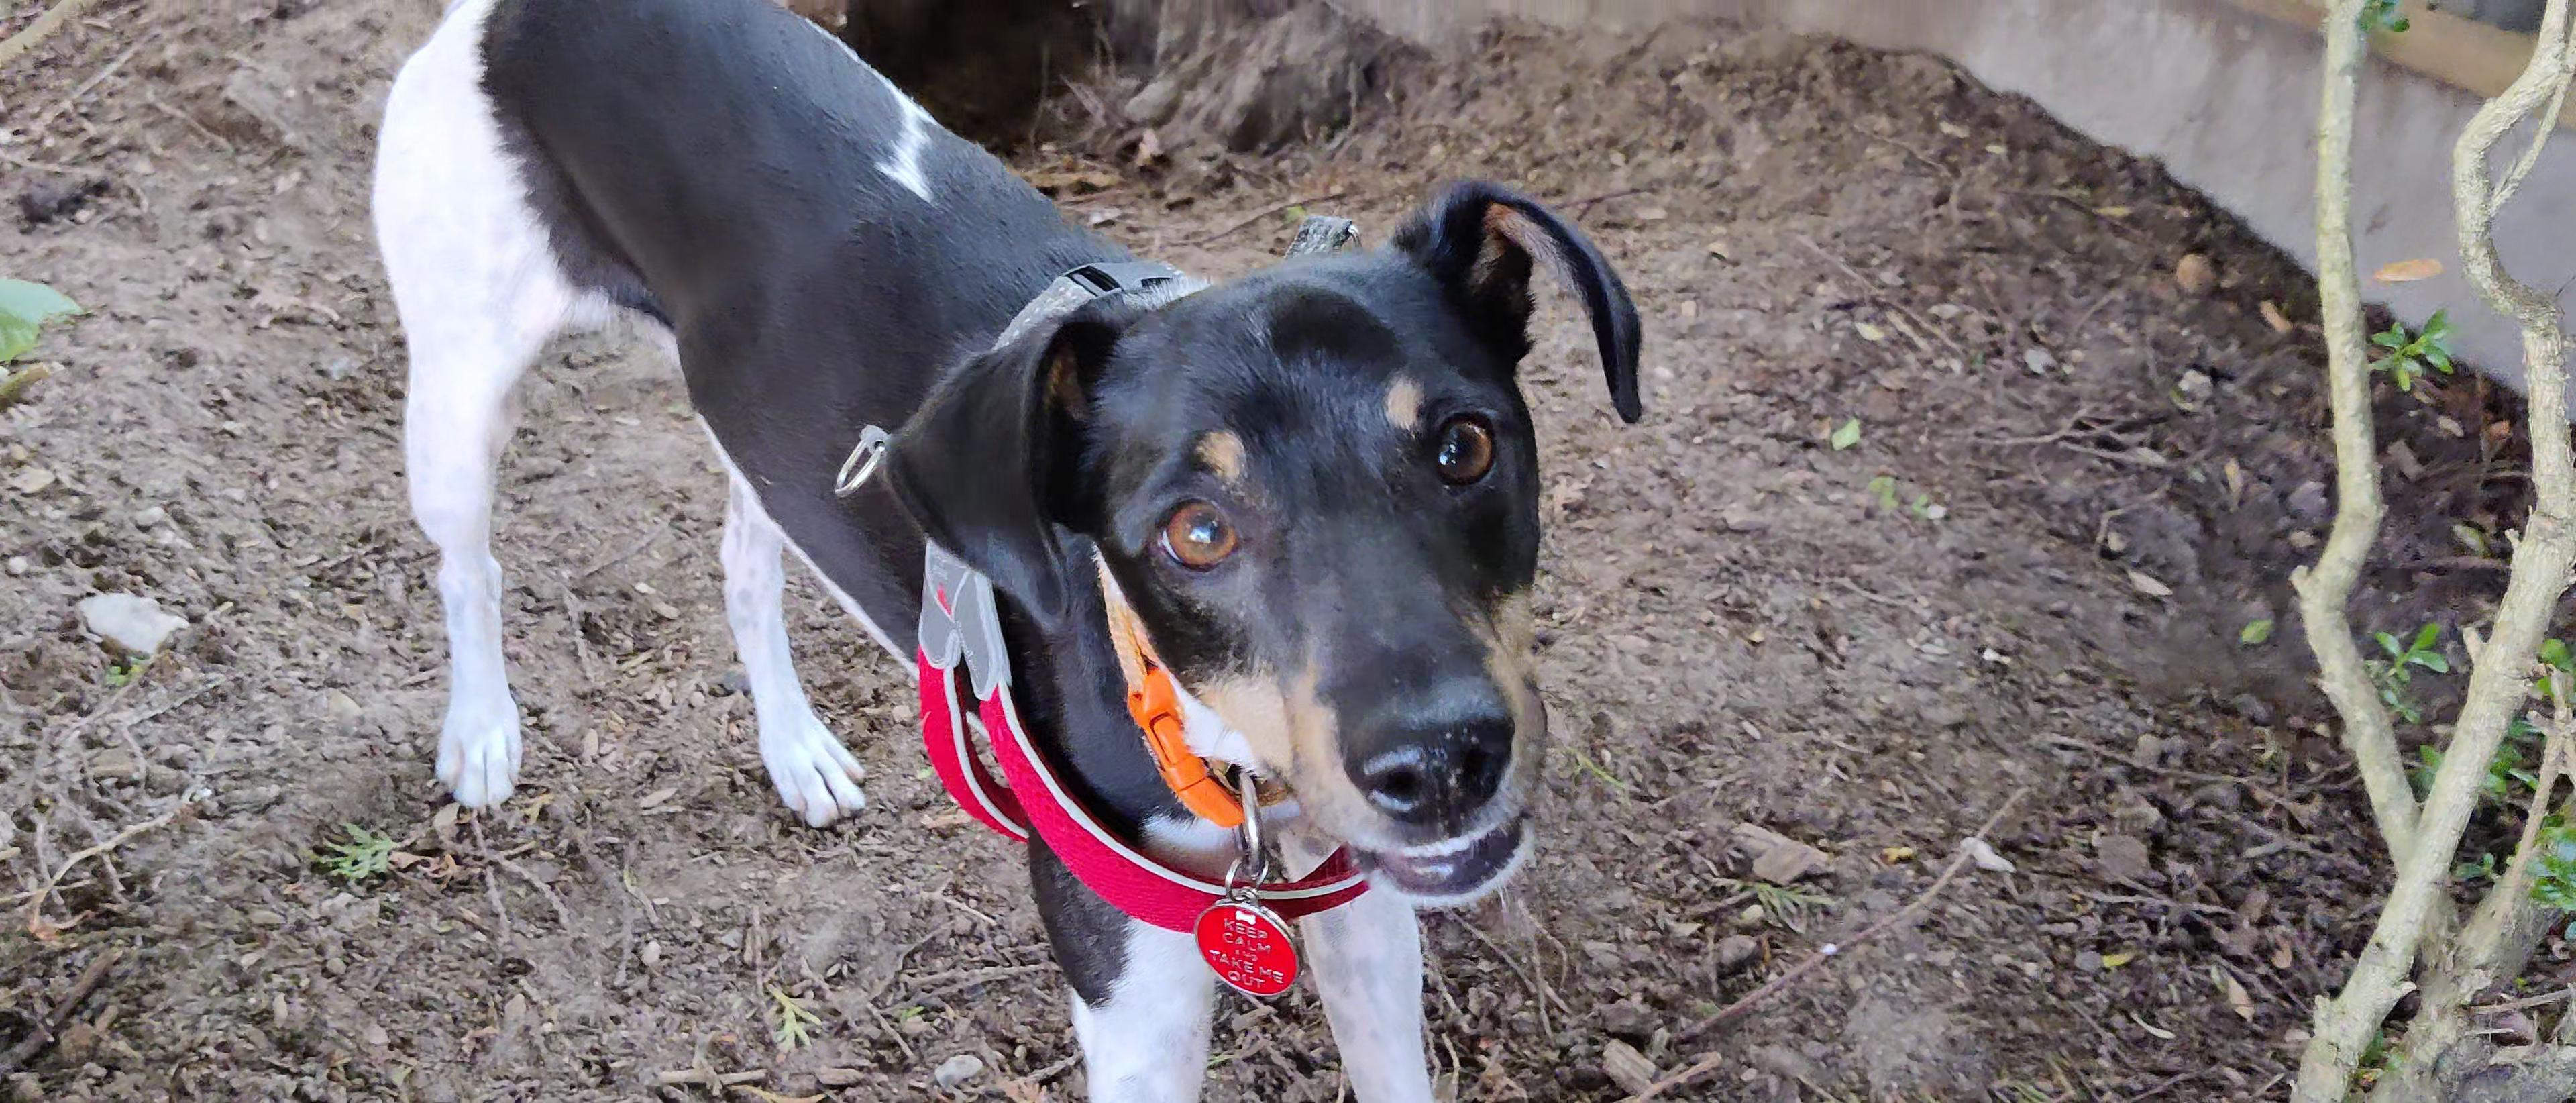Dog: (352, 0, 1658, 1103)
